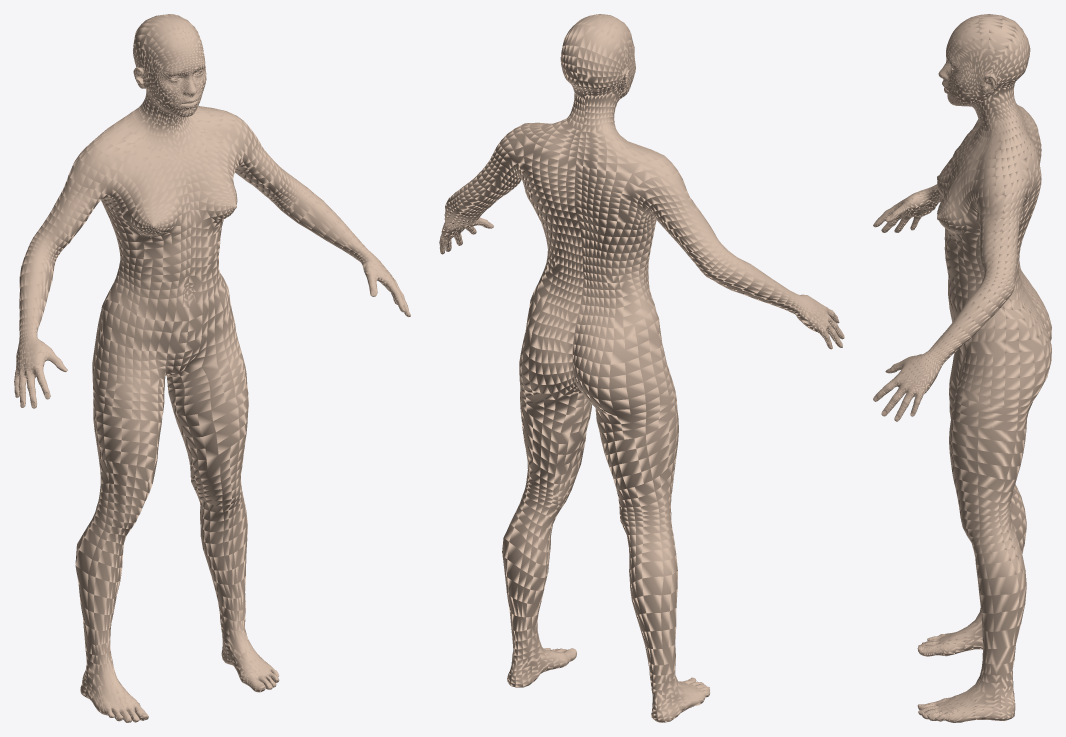
Rendered from female_medium_high.glb.
3 renders of one model, left to right at view 1: azimuth 30°, elevation 25°; view 2: azimuth 150°, elevation 25°; view 3: azimuth 270°, elevation 25°, orthographic. The views are drawn at different scales.
Visible parts, largest first — view 1: female_medium_highMesh; view 2: female_medium_highMesh; view 3: female_medium_highMesh.
Boxes of the visible parts, x1,y1,x2,y2 form: female_medium_highMesh: (14, 14, 410, 722); female_medium_highMesh: (439, 14, 844, 722); female_medium_highMesh: (873, 14, 1051, 722).
Size of the model in its own units: 9.81 by 16.06 by 3.9.
